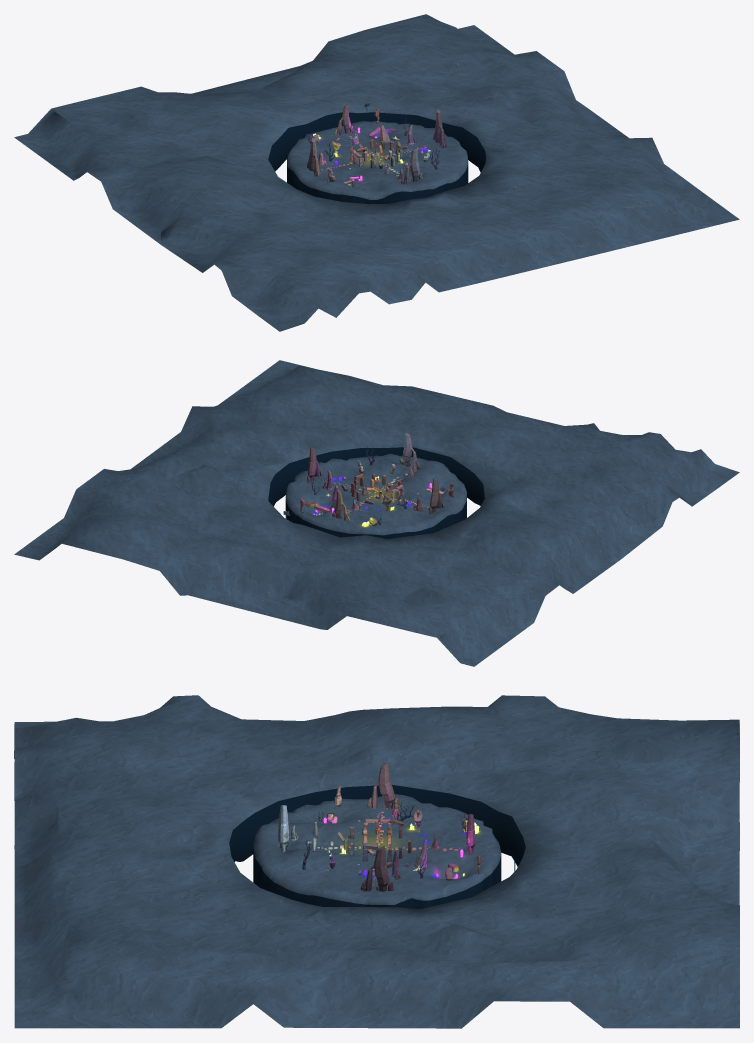
File: portalworld14.glb
3 renders of one model, top to bottom at view 1: azimuth 30°, elevation 25°; view 2: azimuth 150°, elevation 25°; view 3: azimuth 270°, elevation 25°, orthographic. The views are drawn at different scales.
Visible parts, largest first — view 1: ground, epicrocks, randomrocks; view 2: ground, epicrocks, randomrocks; view 3: ground, epicrocks, mediumrocks, randomrocks.
Boxes of the visible parts, left/top/right/bottom form: ground: left=14, top=14, right=739, bottom=331; epicrocks: left=307, top=104, right=446, bottom=183; randomrocks: left=311, top=108, right=402, bottom=184; ground: left=14, top=360, right=739, bottom=666; epicrocks: left=307, top=433, right=443, bottom=521; randomrocks: left=300, top=459, right=454, bottom=525; ground: left=14, top=695, right=739, bottom=1028; epicrocks: left=278, top=763, right=475, bottom=891; mediumrocks: left=311, top=810, right=427, bottom=879; randomrocks: left=291, top=785, right=480, bottom=880.
Bounding box in the file's own units: 1452 × 205 × 1453.
25 materials, 13 textured.
